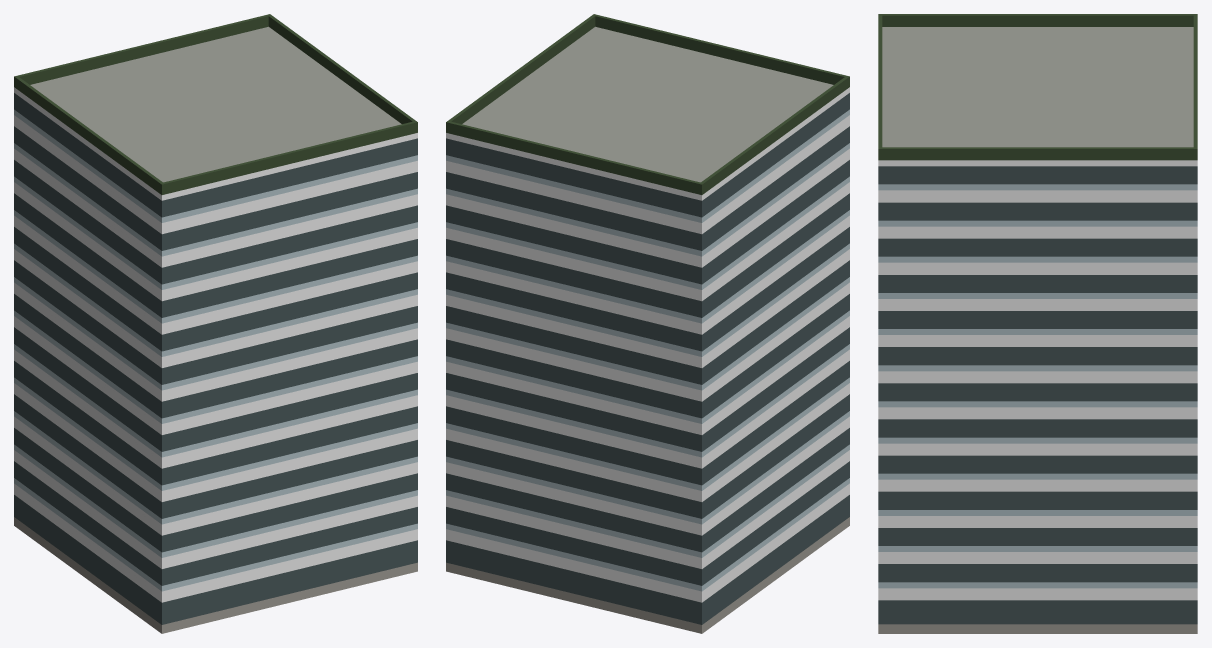
The model's file is far.fbx.
3 renders of one model, left to right at view 1: azimuth 30°, elevation 25°; view 2: azimuth 150°, elevation 25°; view 3: azimuth 270°, elevation 25°, orthographic. The views are drawn at different scales.
Parts seen in each view (by area): view 1: a2019/500/far; view 2: a2019/500/far; view 3: a2019/500/far.
Boxes of the visible parts, x1,y1,x2,y2 form: a2019/500/far: [14, 14, 417, 633]; a2019/500/far: [446, 14, 849, 633]; a2019/500/far: [878, 14, 1197, 633].
Bounding box in the file's own units: 24 × 40.25 × 24.
